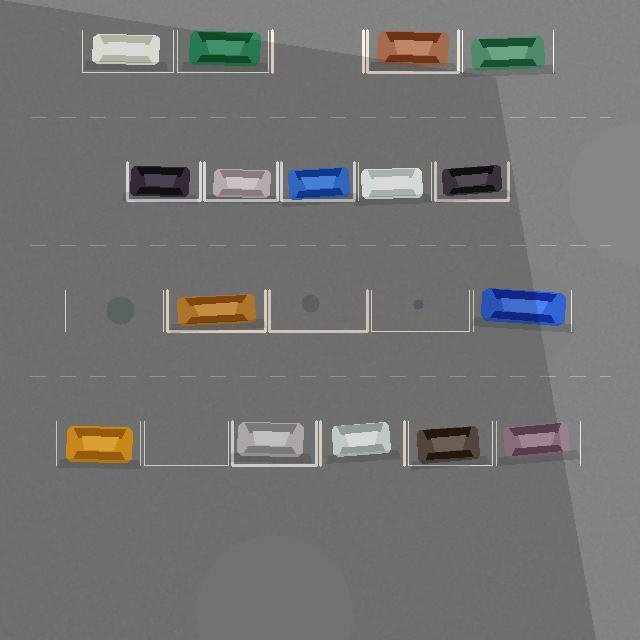space-empty: (65, 290, 163, 331), (269, 290, 367, 331), (371, 290, 469, 331), (272, 30, 363, 72), (144, 421, 228, 465)
space-occupied: (167, 290, 265, 331), (473, 290, 571, 331), (82, 30, 173, 72), (177, 30, 268, 72), (367, 30, 458, 72), (462, 30, 553, 72), (56, 421, 140, 465), (232, 421, 316, 465), (320, 421, 404, 465), (408, 421, 492, 465), (496, 421, 580, 465), (127, 162, 200, 200), (204, 162, 277, 200), (281, 162, 354, 200), (358, 162, 431, 200), (435, 162, 508, 200)
